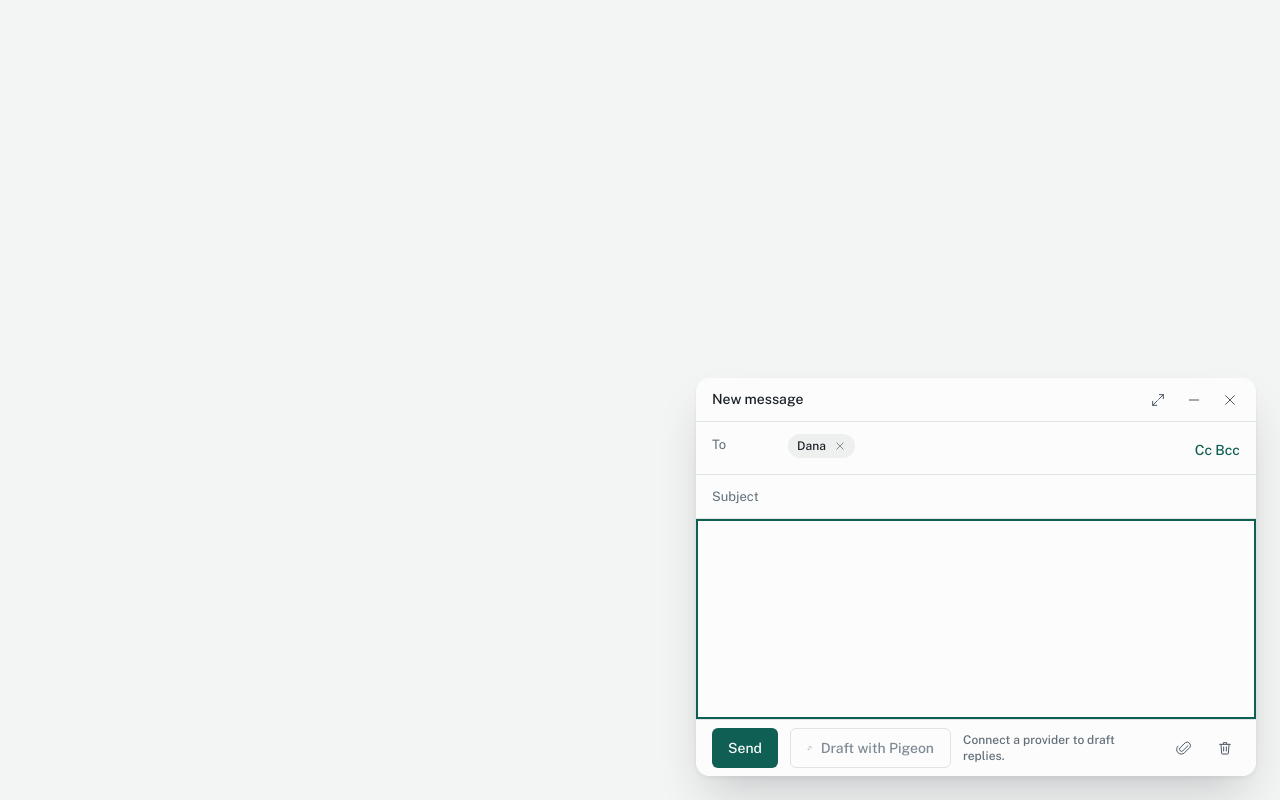
Test: a failed send says what actually failed (§7.6) › reports a revoked token as a revoked token
Click the button "Send": (745, 748) x1=712 y1=728 x2=778 y2=768
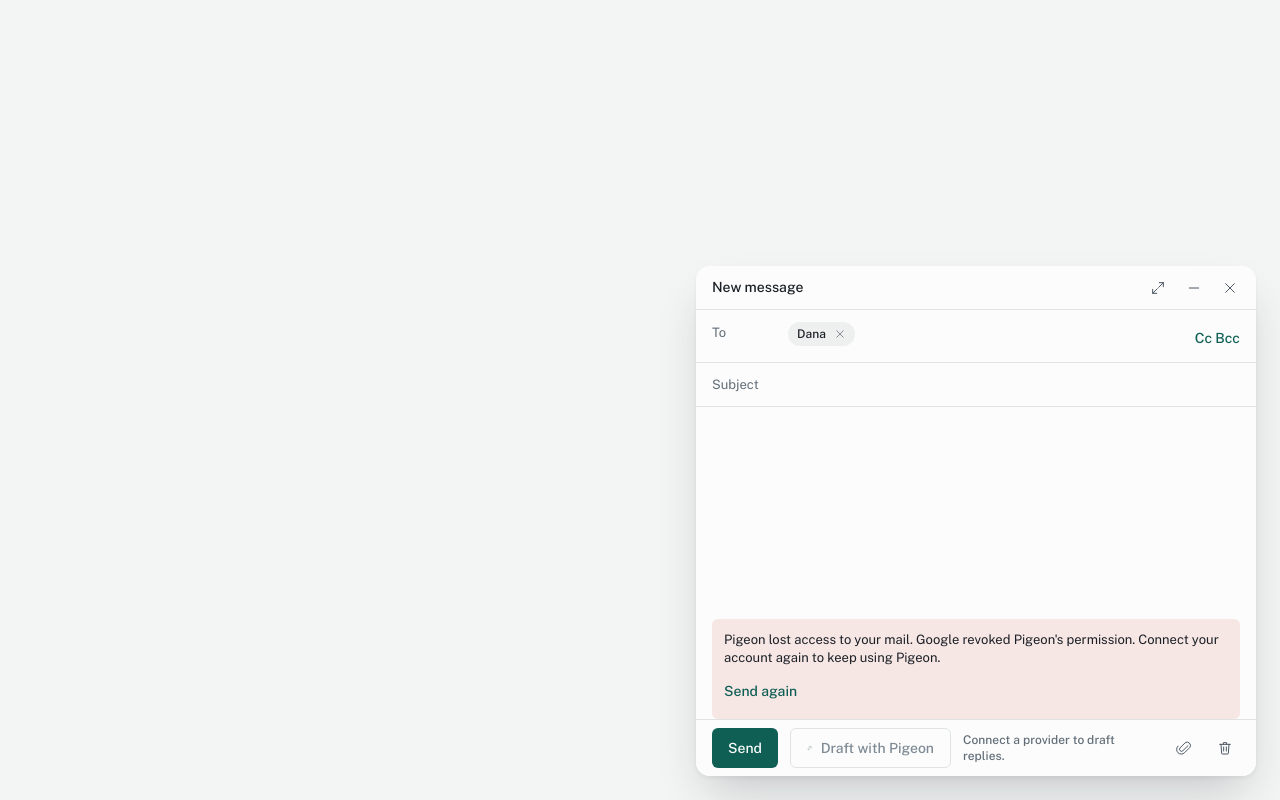
Check: the message shows "lost access to your mail", box x1=724 y1=632 x2=1219 y2=665
